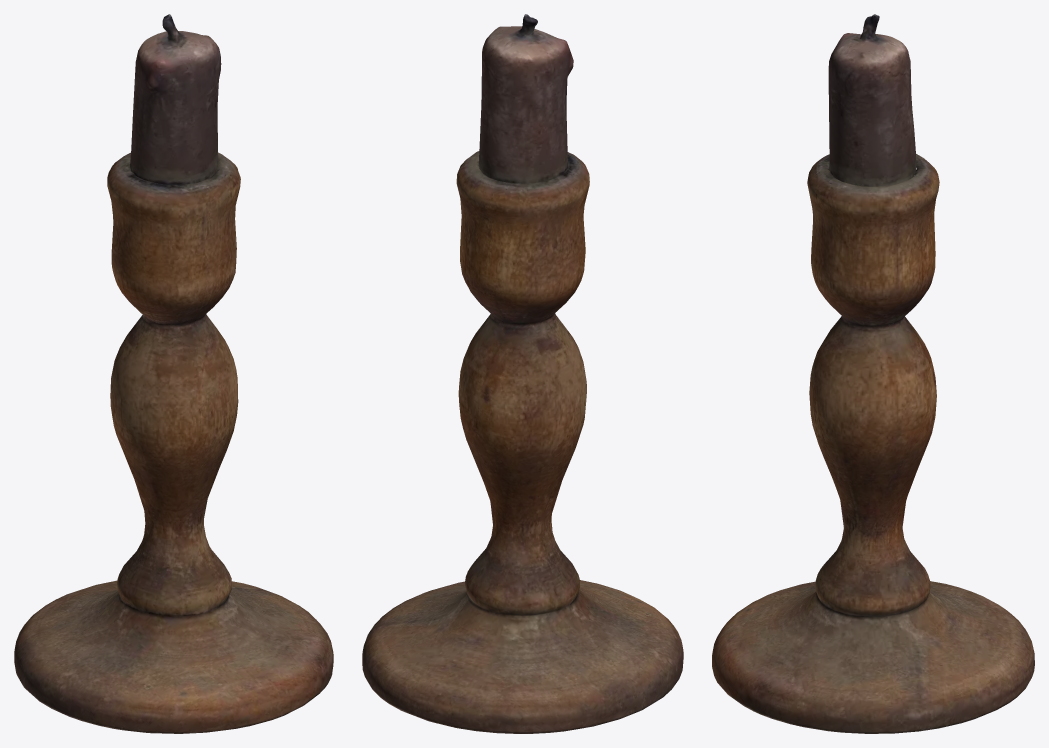
The model's file is candelero.glb.
3 renders of one model, left to right at view 1: azimuth 30°, elevation 25°; view 2: azimuth 150°, elevation 25°; view 3: azimuth 270°, elevation 25°, orthographic.
Parts seen in each view (by area): view 1: wooden_candlestick; view 2: wooden_candlestick; view 3: wooden_candlestick.
Part boxes in pixels (left/top/right/bottom): wooden_candlestick: left=14, top=14, right=333, bottom=733; wooden_candlestick: left=362, top=14, right=683, bottom=733; wooden_candlestick: left=712, top=14, right=1034, bottom=733.
Size of the model in its own units: 0.0972 by 0.2196 by 0.0986.
1 material, 1 textured.
